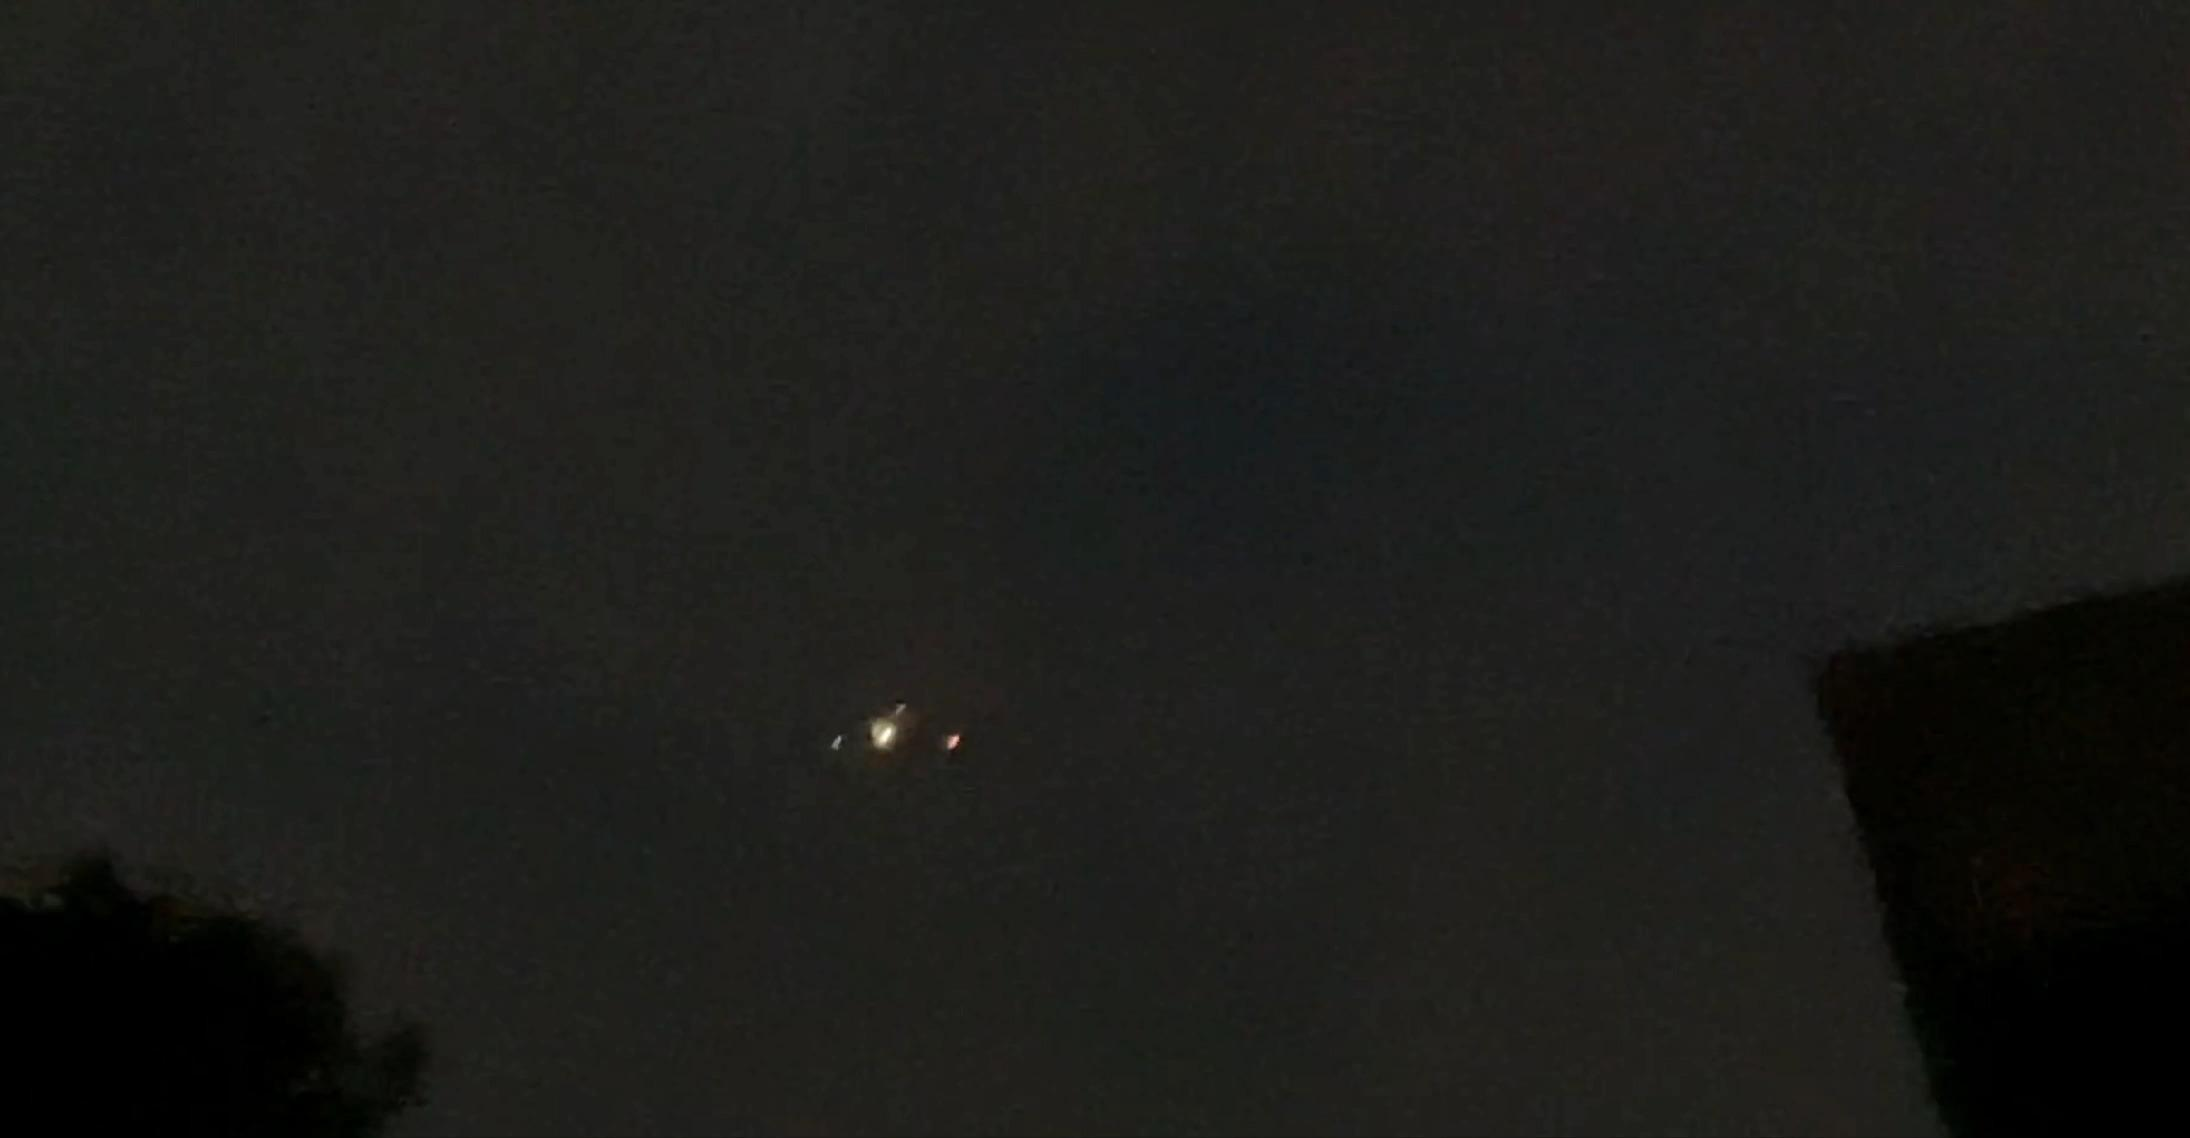Plane: (760, 678, 1021, 783)
